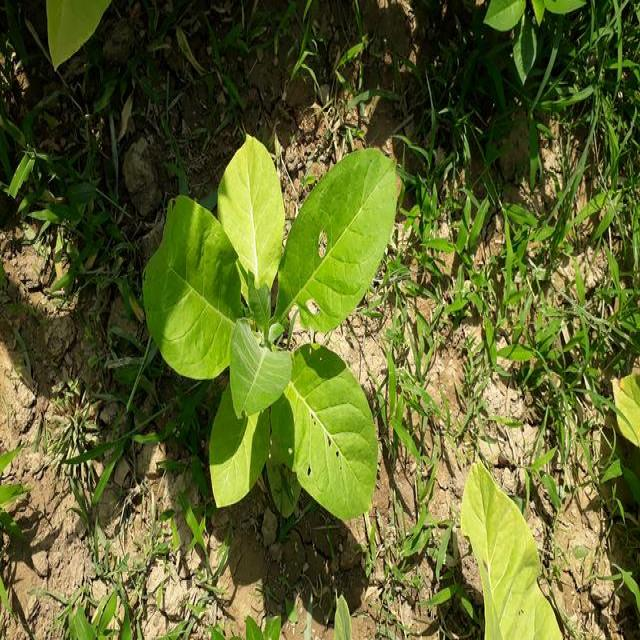crop: (150, 138, 400, 526), (461, 468, 560, 640), (30, 0, 108, 64)
